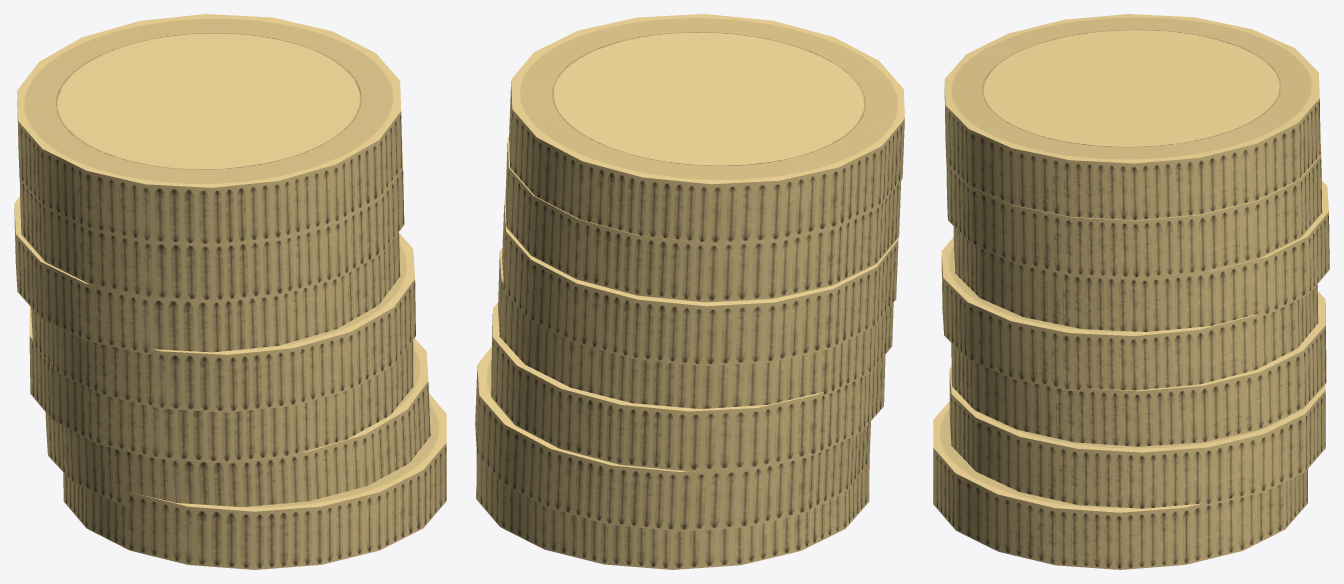
The model's file is Coin_A.fbx.
3 views of the same model, side by side, from view 1: azimuth 30°, elevation 25°; view 2: azimuth 150°, elevation 25°; view 3: azimuth 270°, elevation 25° (orthographic). The views are drawn at different scales.
Parts seen in each view (by area): view 1: Cylinder023, Cylinder029, Cylinder024, Cylinder025, Cylinder028, Cylinder026, Cylinder027; view 2: Cylinder023, Cylinder028, Cylinder027, Cylinder026, Cylinder025, Cylinder024, Cylinder029; view 3: Cylinder023, Cylinder026, Cylinder029, Cylinder024, Cylinder025, Cylinder027, Cylinder028.
Boxes of the visible parts, left/top/right/bottom form: Cylinder023: left=17, top=14, right=402, bottom=245; Cylinder029: left=63, top=393, right=446, bottom=569; Cylinder024: left=31, top=233, right=415, bottom=412; Cylinder025: left=19, top=137, right=404, bottom=301; Cylinder028: left=14, top=196, right=400, bottom=354; Cylinder026: left=45, top=338, right=430, bottom=506; Cylinder027: left=29, top=306, right=413, bottom=462; Cylinder023: left=509, top=14, right=904, bottom=243; Cylinder028: left=502, top=200, right=898, bottom=365; Cylinder027: left=491, top=303, right=885, bottom=471; Cylinder026: left=475, top=346, right=870, bottom=531; Cylinder025: left=505, top=137, right=901, bottom=302; Cylinder024: left=498, top=248, right=893, bottom=408; Cylinder029: left=476, top=452, right=869, bottom=569; Cylinder023: left=944, top=14, right=1320, bottom=220; Cylinder026: left=949, top=367, right=1325, bottom=508; Cylinder029: left=933, top=401, right=1307, bottom=569; Cylinder024: left=941, top=237, right=1318, bottom=391; Cylinder025: left=946, top=134, right=1322, bottom=278; Cylinder027: left=951, top=291, right=1326, bottom=446; Cylinder028: left=953, top=180, right=1329, bottom=331.
Size of the model in its own units: 6.16 by 5.74 by 6.22.
